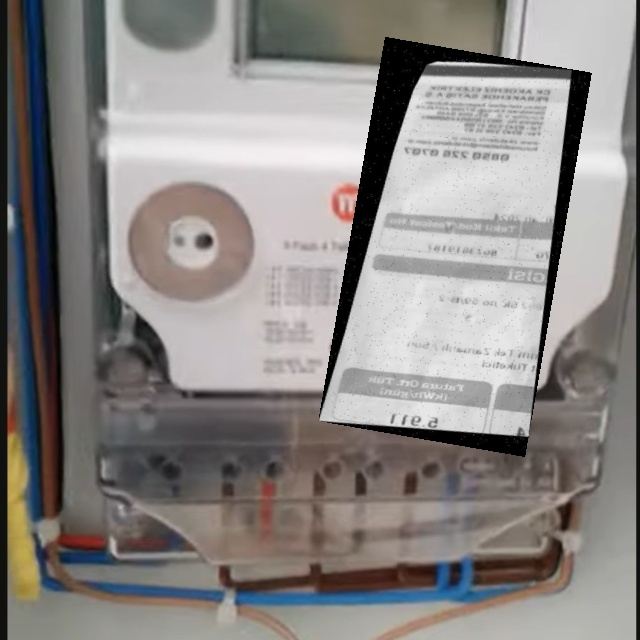electricity-bill: (317, 36, 591, 456)
